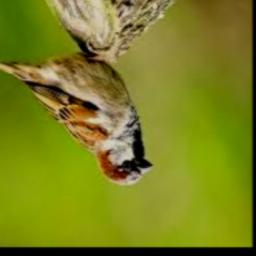Sparrow: (0, 39, 154, 186)
